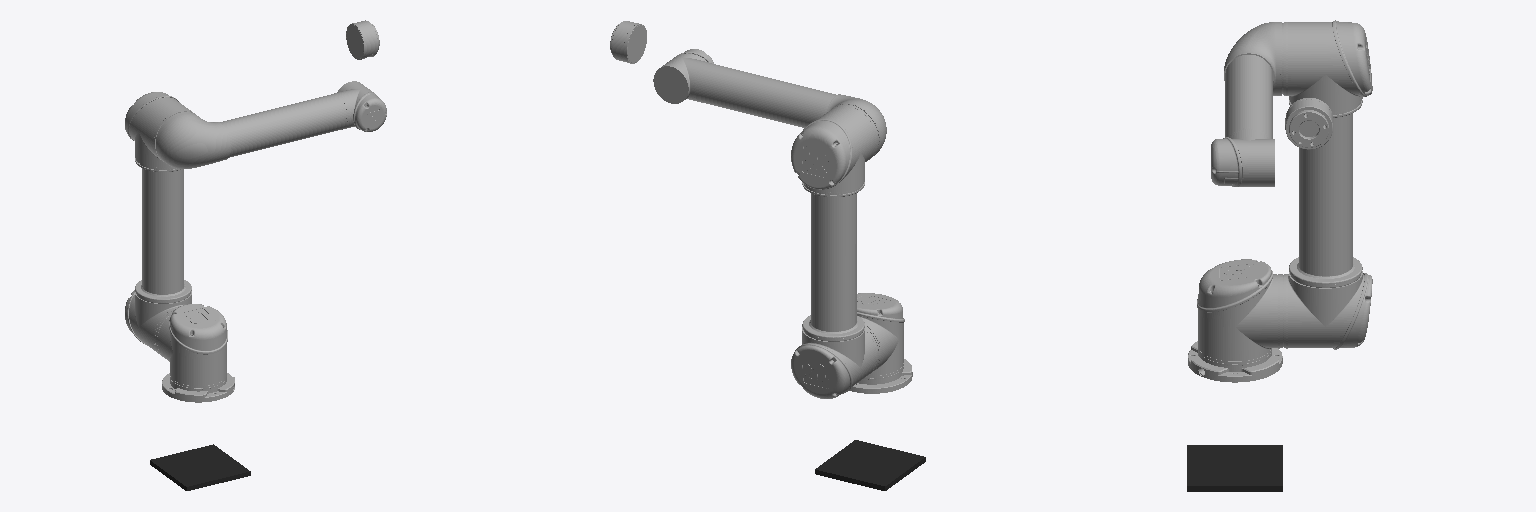
The robot description file, URDF, robot "mobile_manipulator":
<?xml version="1.0" ?>
<!-- =================================================================================== -->
<!-- |    This document was autogenerated by xacro from mobile_manipulator.urdf.xacro  | -->
<!-- |    EDITING THIS FILE BY HAND IS NOT RECOMMENDED                                 | -->
<!-- =================================================================================== -->
<robot name="mobile_manipulator">
  <material name="dark_grey">
    <color rgba="0.2 0.2 0.2 1.0"/>
  </material>
  <material name="light_grey">
    <color rgba="0.4 0.4 0.4 1.0"/>
  </material>
  <material name="yellow">
    <color rgba="0.8 0.8 0.0 1.0"/>
  </material>
  <material name="black">
    <color rgba="0.15 0.15 0.15 1.0"/>
  </material>
  <material name="silver">
    <color rgba="0.700 0.700 0.700 1.000"/>
  </material>
  <link name="front_left_wheel_link">
    <visual>
      <origin rpy="1.5707963267948966 0 0" xyz="0 0 0"/>
      <geometry>
        <mesh filename="package://swarm_description/meshes/jackal-wheel.stl"/>
      </geometry>
      <material name="black"/>
    </visual>
    <collision>
      <origin rpy="1.5707963267948966 0 0" xyz="0 0 0"/>
      <geometry>
        <cylinder length="0.04" radius="0.098"/>
      </geometry>
    </collision>
    <inertial>
      <origin rpy="0 0 0" xyz="0 0 0"/>
      <mass value="0.477"/>
      <inertia ixx="0.0013" ixy="0" ixz="0" iyy="0.0024" iyz="0" izz="0.0013"/>
    </inertial>
  </link>

  <joint name="front_left_wheel" type="continuous">
    <parent link="chassis_link"/>
    <child link="front_left_wheel_link"/>
    <origin rpy="0 0 0" xyz="0.131 0.187795 0.0345"/>
    <axis xyz="0 1 0"/>
  </joint>
  <!-- In reality, Jackal has only two motors, one per side. However, it's more
         straightforward for Gazebo to simulate as if there's an actuator per wheel. -->
  <link name="front_right_wheel_link">
    <visual>
      <origin rpy="1.5707963267948966 0 0" xyz="0 0 0"/>
      <geometry>
        <mesh filename="package://swarm_description/meshes/jackal-wheel.stl"/>
      </geometry>
      <material name="black"/>
    </visual>
    <collision>
      <origin rpy="1.5707963267948966 0 0" xyz="0 0 0"/>
      <geometry>
        <cylinder length="0.04" radius="0.098"/>
      </geometry>
    </collision>
    <inertial>
      <origin rpy="0 0 0" xyz="0 0 0"/>
      <mass value="0.477"/>
      <inertia ixx="0.0013" ixy="0" ixz="0" iyy="0.0024" iyz="0" izz="0.0013"/>
    </inertial>
  </link>

  <joint name="front_right_wheel" type="continuous">
    <parent link="chassis_link"/>
    <child link="front_right_wheel_link"/>
    <origin rpy="0 0 0" xyz="0.131 -0.187795 0.0345"/>
    <axis xyz="0 1 0"/>
  </joint>
  <!-- In reality, Jackal has only two motors, one per side. However, it's more
         straightforward for Gazebo to simulate as if there's an actuator per wheel. -->
  <link name="rear_left_wheel_link">
    <visual>
      <origin rpy="1.5707963267948966 0 0" xyz="0 0 0"/>
      <geometry>
        <mesh filename="package://swarm_description/meshes/jackal-wheel.stl"/>
      </geometry>
      <material name="black"/>
    </visual>
    <collision>
      <origin rpy="1.5707963267948966 0 0" xyz="0 0 0"/>
      <geometry>
        <cylinder length="0.04" radius="0.098"/>
      </geometry>
    </collision>
    <inertial>
      <origin rpy="0 0 0" xyz="0 0 0"/>
      <mass value="0.477"/>
      <inertia ixx="0.0013" ixy="0" ixz="0" iyy="0.0024" iyz="0" izz="0.0013"/>
    </inertial>
  </link>

  <joint name="rear_left_wheel" type="continuous">
    <parent link="chassis_link"/>
    <child link="rear_left_wheel_link"/>
    <origin rpy="0 0 0" xyz="-0.131 0.187795 0.0345"/>
    <axis xyz="0 1 0"/>
  </joint>
  <!-- In reality, Jackal has only two motors, one per side. However, it's more
         straightforward for Gazebo to simulate as if there's an actuator per wheel. -->
  <link name="rear_right_wheel_link">
    <visual>
      <origin rpy="1.5707963267948966 0 0" xyz="0 0 0"/>
      <geometry>
        <mesh filename="package://swarm_description/meshes/jackal-wheel.stl"/>
      </geometry>
      <material name="black"/>
    </visual>
    <collision>
      <origin rpy="1.5707963267948966 0 0" xyz="0 0 0"/>
      <geometry>
        <cylinder length="0.04" radius="0.098"/>
      </geometry>
    </collision>
    <inertial>
      <origin rpy="0 0 0" xyz="0 0 0"/>
      <mass value="0.477"/>
      <inertia ixx="0.0013" ixy="0" ixz="0" iyy="0.0024" iyz="0" izz="0.0013"/>
    </inertial>
  </link>

  <joint name="rear_right_wheel" type="continuous">
    <parent link="chassis_link"/>
    <child link="rear_right_wheel_link"/>
    <origin rpy="0 0 0" xyz="-0.131 -0.187795 0.0345"/>
    <axis xyz="0 1 0"/>
  </joint>
  <!-- In reality, Jackal has only two motors, one per side. However, it's more
         straightforward for Gazebo to simulate as if there's an actuator per wheel. -->

  <link name="chassis_link">
    <visual>
      <origin rpy="1.5707963267948966 0 1.5707963267948966" xyz="0 0 -0.0655"/>
      <geometry>
        <mesh filename="package://swarm_description/meshes/jackal-base.stl"/>
      </geometry>
      <material name="dark_grey"/>
    </visual>
    <collision>
      <origin xyz="0 0 0.092"/>
      <geometry>
        <box size="0.42 0.31 0.184"/>
      </geometry>
    </collision>
    <inertial>
      <!-- Center of mass -->
      <origin rpy="0 0 0" xyz="0.012  0.002 0.067"/>
      <mass value="16.523"/>
      <!-- Moments of inertia: ( chassis without wheels ) -->
      <inertia ixx="0.3136" ixy="-0.0008" ixz="0.0164" iyy="0.3922" iyz="-0.0009" izz="0.4485"/>
    </inertial>
  </link>
  <link name="front_fender_link">
    <visual>
      <geometry>
        <mesh filename="package://swarm_description/meshes/jackal-fender.stl"/>
      </geometry>
      <material name="yellow"/>
    </visual>
    <collision>
      <geometry>
        <mesh filename="package://swarm_description/meshes/jackal-fender.stl"/>
      </geometry>
    </collision>
  </link>
  <joint name="front_fender_joint" type="fixed">
    <origin rpy="0 0 0" xyz="0 0 0"/>
    <parent link="chassis_link"/>
    <child link="front_fender_link"/>
  </joint>
  <link name="rear_fender_link">
    <visual>
      <geometry>
        <mesh filename="package://swarm_description/meshes/jackal-fender.stl"/>
      </geometry>
      <material name="yellow"/>
    </visual>
    <collision>
      <geometry>
        <mesh filename="package://swarm_description/meshes/jackal-fender.stl"/>
      </geometry>
    </collision>
  </link>
  <joint name="rear_fender_joint" type="fixed">
    <origin rpy="0 0 3.141592653589793" xyz="0 0 0"/>
    <parent link="chassis_link"/>
    <child link="rear_fender_link"/>
  </joint>
  <!-- Default Internal IMU Link -->
  <link name="imu_link">
    <inertial>
      <mass value="0.001"/>
      <origin rpy="0 0 0" xyz="0 0 0"/>
      <inertia ixx="1e-09" ixy="0.0" ixz="0.0" iyy="1e-09" iyz="0.0" izz="1e-09"/>
    </inertial>
  </link>
  <joint name="imu_joint" type="fixed">
    <parent link="chassis_link"/>
    <child link="imu_link"/>
  </joint>
  <!-- Default LIDAR Link -->
  <link name="lidar_link">
    <visual>
      <geometry>
        <cylinder length="0.055" radius="0.0508"/>
      </geometry>
      <origin xyz="0 0 0.008"/>
      <material name="black"/>
    </visual>
    <collision>
      <geometry>
        <cylinder length="0.055" radius="0.0508"/>
      </geometry>
      <origin xyz="0 0 0.008"/>
    </collision>
  </link>
  <joint name="lidar_joint" type="fixed">
    <parent link="chassis_link"/>
    <child link="lidar_link"/>
    <origin xyz="0.0 0.0 0.205"/>
  </joint>
  
  <!-- Centered in Y -->
  <!-- Create a mounting plate link for the UR5 arm -->
  <link name="arm_mount_plate">
    <visual>
      <origin rpy="0 0 0" xyz="0 0 -0.005"/>
      <geometry>
        <box size="0.15 0.15 0.01"/>
      </geometry>
      <material name="dark_grey">
        <color rgba="0.2 0.2 0.2 1.0"/>
      </material>
    </visual>
    <collision>
      <origin rpy="0 0 0" xyz="0 0 -0.005"/>
      <geometry>
        <box size="0.15 0.15 0.01"/>
      </geometry>
    </collision>
    <inertial>
      <mass value="2.0"/>
      <origin rpy="0 0 0" xyz="0 0 -0.005"/>
      <inertia ixx="0.00875" ixy="0.0" ixz="0.0" iyy="0.00875" iyz="0.0" izz="0.015"/>
    </inertial>
  </link>
  <!-- Joint connecting the mounting plate to Jackal's mid_mount -->
  <joint name="arm_mount_joint" type="fixed">
    <parent link="chassis_link"/>
    <child link="arm_mount_plate"/>
    <origin rpy="0 0 0" xyz="0.0 0.0 0.01"/>
  </joint>
  <!-- UR5 Arm Links and Joints -->
  <!-- We need to define the UR5 arm structure inline or include it with proper parent -->
  <!-- UR5 Base Link mounted on the arm mounting plate -->
  <link name="arm_base_link">
    <inertial>
      <origin rpy="0 0 0" xyz="-0.0033230512143046006 -0.0004232197888539764 0.037822190938846395"/>
      <mass value="25.3"/>
      <inertia ixx="0.00671" ixy="-0.000188" ixz="0.0" iyy="0.00671" iyz="0.0" izz="0.01125"/>
    </inertial>
    <visual>
      <origin rpy="0 0 0" xyz="0 0 0"/>
      <geometry>
        <mesh filename="package://swarm_description/meshes/base_link.stl" scale="0.001 0.001 0.001"/>
      </geometry>
      <material name="silver"/>
    </visual>
    <collision>
      <origin rpy="0 0 0" xyz="0 0 0"/>
      <geometry>
        <mesh filename="package://swarm_description/meshes/base_link.stl" scale="0.001 0.001 0.001"/>
      </geometry>
    </collision>
  </link>
  <!-- Joint connecting UR5 base to the mounting plate -->
  <joint name="arm_mount_base_joint" type="fixed">
    <parent link="arm_mount_plate"/>
    <child link="arm_base_link"/>
    <origin rpy="0 0 0" xyz="0 0 0.155"/>
  </joint>
  <!-- UR5 Link 1 -->
  <link name="arm_link1_1">
    <inertial>
      <origin rpy="0 0 0" xyz="-5.118812714607554e-06 0.016411047782836283 0.05864433019110279"/>
      <mass value="1.667428920912541"/>
      <inertia ixx="0.004178" ixy="0.0" ixz="1e-06" iyy="0.003273" iyz="-0.000173" izz="0.003817"/>
    </inertial>
    <visual>
      <origin rpy="0 0 0" xyz="0.003691 5.6e-05 -0.050586"/>
      <geometry>
        <mesh filename="package://swarm_description/meshes/link1_1.stl" scale="0.001 0.001 0.001"/>
      </geometry>
      <material name="silver"/>
    </visual>
    <collision>
      <origin rpy="0 0 0" xyz="0.003691 5.6e-05 -0.050586"/>
      <geometry>
        <mesh filename="package://swarm_description/meshes/link1_1.stl" scale="0.001 0.001 0.001"/>
      </geometry>
    </collision>
  </link>
  <joint name="arm_base_link1_joint" type="continuous">
    <origin rpy="0 0 0" xyz="-0.003691 -5.6e-05 0.050586"/>
    <parent link="arm_base_link"/>
    <child link="arm_link1_1"/>
    <axis xyz="0.0 -0.0 1.0"/>
  </joint>
  <!-- UR5 Link 2 Part 1 -->
  <link name="arm_link2_p1_1">
    <inertial>
      <origin rpy="0 0 0" xyz="6.203040415705269e-06 0.06207005674361077 0.007860389181770538"/>
      <mass value="1.5524700894200791"/>
      <inertia ixx="0.003628" ixy="-1e-06" ixz="-0.0" iyy="0.003009" iyz="-0.000207" izz="0.003383"/>
    </inertial>
    <visual>
      <origin rpy="0 0 0" xyz="0.003691 -0.075244 -0.110286"/>
      <geometry>
        <mesh filename="package://swarm_description/meshes/link2_p1_1.stl" scale="0.001 0.001 0.001"/>
      </geometry>
      <material name="silver"/>
    </visual>
    <collision>
      <origin rpy="0 0 0" xyz="0.003691 -0.075244 -0.110286"/>
      <geometry>
        <mesh filename="package://swarm_description/meshes/link2_p1_1.stl" scale="0.001 0.001 0.001"/>
      </geometry>
    </collision>
  </link>
  <joint name="arm_link1_link2p1_joint" type="continuous">
    <origin rpy="0 0 0" xyz="0.0 0.0753 0.0597"/>
    <parent link="arm_link1_1"/>
    <child link="arm_link2_p1_1"/>
    <axis xyz="0.0 -1.0 -0.0"/>
  </joint>
  <!-- UR5 Link 2 Part 2 -->
  <link name="arm_link2_p2_1">
    <inertial>
      <origin rpy="0 0 0" xyz="-8.752471172565526e-05 2.4376620175181607e-07 0.1524996678439083"/>
      <mass value="1.937681145922208"/>
      <inertia ixx="0.017402" ixy="0.0" ixz="1e-06" iyy="0.017402" iyz="-0.0" izz="0.001914"/>
    </inertial>
    <visual>
      <origin rpy="0 0 0" xyz="0.003693 -0.142247 -0.176586"/>
      <geometry>
        <mesh filename="package://swarm_description/meshes/link2_p2_1.stl" scale="0.001 0.001 0.001"/>
      </geometry>
      <material name="silver"/>
    </visual>
    <collision>
      <origin rpy="0 0 0" xyz="0.003693 -0.142247 -0.176586"/>
      <geometry>
        <mesh filename="package://swarm_description/meshes/link2_p2_1.stl" scale="0.001 0.001 0.001"/>
      </geometry>
    </collision>
  </link>
  <joint name="arm_p1_p2_joint" type="fixed">
    <origin rpy="0 0 0" xyz="-2e-06 0.067003 0.0663"/>
    <parent link="arm_link2_p1_1"/>
    <child link="arm_link2_p2_1"/>
  </joint>
  <!-- UR5 Link 2 Part 3 -->
  <link name="arm_link2_p3_1">
    <inertial>
      <origin rpy="0 0 0" xyz="-7.763250047288905e-06 -0.004932943256389266 0.05843895228729162"/>
      <mass value="1.5524700894200791"/>
      <inertia ixx="0.003628" ixy="1e-06" ixz="-0.0" iyy="0.003009" iyz="0.000207" izz="0.003383"/>
    </inertial>
    <visual>
      <origin rpy="0 0 0" xyz="0.003704 -0.142247 -0.481586"/>
      <geometry>
        <mesh filename="package://swarm_description/meshes/link2_p3_1.stl" scale="0.001 0.001 0.001"/>
      </geometry>
      <material name="silver"/>
    </visual>
    <collision>
      <origin rpy="0 0 0" xyz="0.003704 -0.142247 -0.481586"/>
      <geometry>
        <mesh filename="package://swarm_description/meshes/link2_p3_1.stl" scale="0.001 0.001 0.001"/>
      </geometry>
    </collision>
  </link>
  <joint name="arm_p2_p3_joint" type="fixed">
    <origin rpy="0 0 0" xyz="-1.1e-05 0.0 0.305"/>
    <parent link="arm_link2_p2_1"/>
    <child link="arm_link2_p3_1"/>
  </joint>
  <!-- UR5 Link 3 -->
  <!-- Joint connecting Link 2 Part 3 to Link 3 -->
  <joint name="arm_link2p3_link3_joint" type="continuous">
    <origin rpy="0 0 0" xyz="-2e-06 -0.067003 0.0663"/>
    <parent link="arm_link2_p3_1"/>
    <child link="arm_link3_1"/>
    <axis xyz="0.0 -1.0 -0.0"/>
  </joint>
  <link name="arm_link3_1">
    <inertial>
      <origin rpy="0 0 0" xyz="0.17378102072172863 -0.04787490591742441 0.00100186606907815"/>
      <mass value="2.846539405621545"/>
      <inertia ixx="0.003063" ixy="0.003731" ixz="-0.000342" iyy="0.061797" iyz="2.2e-05" izz="0.062318"/>
    </inertial>
    <visual>
      <origin rpy="0 0 0" xyz="0.003706 -0.075244 -0.547886"/>
      <geometry>
        <mesh filename="package://swarm_description/meshes/link3_1.stl" scale="0.001 0.001 0.001"/>
      </geometry>
      <material name="silver"/>
    </visual>
    <collision>
      <origin rpy="0 0 0" xyz="0.003706 -0.075244 -0.547886"/>
      <geometry>
        <mesh filename="package://swarm_description/meshes/link3_1.stl" scale="0.001 0.001 0.001"/>
      </geometry>
    </collision>
  </link>
  <joint name="arm_link3_link4_joint" type="continuous">
    <origin rpy="0 0 0" xyz="0.392244 -0.012 0.002256"/>
    <parent link="arm_link3_1"/>
    <child link="arm_link4_1"/>
    <axis xyz="0.0 1.0 -0.0"/>
  </joint>
  <!-- UR5 Link 4 -->
  <link name="arm_link4_1">
    <inertial>
      <origin rpy="0 0 0" xyz="2.12490884528016e-05 0.04182917130330904 -0.003987177325129543"/>
      <mass value="0.5732810659722621"/>
      <inertia ixx="0.000753" ixy="0.0" ixz="0.0" iyy="0.000581" iyz="1.1e-05" izz="0.000587"/>
    </inertial>
    <visual>
      <origin rpy="0 0 0" xyz="-0.388538 -0.063244 -0.550142"/>
      <geometry>
        <mesh filename="package://swarm_description/meshes/link4_1.stl" scale="0.001 0.001 0.001"/>
      </geometry>
      <material name="silver"/>
    </visual>
    <collision>
      <origin rpy="0 0 0" xyz="-0.388538 -0.063244 -0.550142"/>
      <geometry>
        <mesh filename="package://swarm_description/meshes/link4_1.stl" scale="0.001 0.001 0.001"/>
      </geometry>
    </collision>
  </link>
  <joint name="arm_link4_link5_joint" type="continuous">
    <origin rpy="0 0 0" xyz="-9.7e-05 0.05362 0.04155"/>
    <parent link="arm_link4_1"/>
    <child link="arm_link5_1"/>
    <axis xyz="-0.00232 0.0 0.999997"/>
  </joint>
  <!-- UR5 Link 5 -->
  <link name="arm_link5_1">
    <inertial>
      <origin rpy="0 0 0" xyz="-0.003851364362202292 4.3924354040825175e-05 0.04240877360333983"/>
      <mass value="0.5732811937839646"/>
      <inertia ixx="0.000597" ixy="1e-06" ixz="2e-05" iyy="0.000754" iyz="0.0" izz="0.000572"/>
    </inertial>
    <visual>
      <origin rpy="0 0 0" xyz="-0.388441 -0.116864 -0.591692"/>
      <geometry>
        <mesh filename="package://swarm_description/meshes/link5_1.stl" scale="0.001 0.001 0.001"/>
      </geometry>
      <material name="silver"/>
    </visual>
    <collision>
      <origin rpy="0 0 0" xyz="-0.388441 -0.116864 -0.591692"/>
      <geometry>
        <mesh filename="package://swarm_description/meshes/link5_1.stl" scale="0.001 0.001 0.001"/>
      </geometry>
    </collision>
  </link>
  <joint name="arm_link5_link6_joint" type="continuous">
    <origin rpy="0 0 0" xyz="0.041424 -0.000352 0.053716"/>
    <parent link="arm_link5_1"/>
    <child link="arm_link6_1"/>
    <axis xyz="0.999962 -0.008461 0.00232"/>
  </joint>
  <!-- UR5 Link 6 -->
  <link name="arm_link6_1">
    <inertial>
      <origin rpy="0 0 0" xyz="0.01818377138506838 -7.537991570427671e-05 0.0001621667781095404"/>
      <mass value="0.1747134109193075"/>
      <inertia ixx="0.000123" ixy="-0.0" ixz="-0.0" iyy="8.2e-05" iyz="0.0" izz="8.3e-05"/>
    </inertial>
    <visual>
      <origin rpy="0 0 0" xyz="-0.429865 -0.116512 -0.645408"/>
      <geometry>
        <mesh filename="package://swarm_description/meshes/link6_1.stl" scale="0.001 0.001 0.001"/>
      </geometry>
      <material name="silver"/>
    </visual>
    <collision>
      <origin rpy="0 0 0" xyz="-0.429865 -0.116512 -0.645408"/>
      <geometry>
        <mesh filename="package://swarm_description/meshes/link6_1.stl" scale="0.001 0.001 0.001"/>
      </geometry>
    </collision>
  </link>
</robot>

--- Facts derived from the render (not from the file) ---
3 views of the same robot in one strip: view 1: azimuth 30°, elevation 25°; view 2: azimuth 150°, elevation 25°; view 3: azimuth 270°, elevation 25° (orthographic).
Robot: mobile_manipulator — 19 links, 18 joints (10 continuous, 8 fixed); root link chassis_link; default pose: every joint at zero.
Links seen in each view (by area): view 1: arm_link3_1, arm_link2_p2_1, arm_link1_1, arm_mount_plate, arm_link2_p3_1, arm_link2_p1_1, arm_base_link, arm_link6_1; view 2: arm_link3_1, arm_link2_p2_1, arm_link2_p3_1, arm_link2_p1_1, arm_mount_plate, arm_link1_1, arm_link6_1, arm_base_link; view 3: arm_link3_1, arm_link2_p2_1, arm_link1_1, arm_link2_p3_1, arm_link2_p1_1, arm_mount_plate, arm_base_link, arm_link6_1.
Link boxes in pixels (left/top/right/bottom): arm_link3_1: left=156, top=81, right=386, bottom=168; arm_link2_p2_1: left=135, top=158, right=191, bottom=303; arm_link1_1: left=155, top=304, right=227, bottom=385; arm_mount_plate: left=150, top=444, right=250, bottom=490; arm_link2_p3_1: left=125, top=92, right=194, bottom=167; arm_link2_p1_1: left=125, top=290, right=191, bottom=356; arm_base_link: left=162, top=373, right=234, bottom=402; arm_link6_1: left=346, top=20, right=379, bottom=59; arm_link3_1: left=653, top=49, right=886, bottom=155; arm_link2_p2_1: left=802, top=182, right=864, bottom=341; arm_link2_p3_1: left=791, top=104, right=878, bottom=192; arm_link2_p1_1: left=791, top=327, right=878, bottom=398; arm_mount_plate: left=815, top=440, right=925, bottom=490; arm_link1_1: left=857, top=293, right=904, bottom=375; arm_link6_1: left=610, top=21, right=646, bottom=63; arm_base_link: left=849, top=359, right=912, bottom=393; arm_link3_1: left=1211, top=22, right=1282, bottom=186; arm_link2_p2_1: left=1289, top=100, right=1362, bottom=287; arm_link1_1: left=1197, top=259, right=1282, bottom=360; arm_link2_p3_1: left=1283, top=20, right=1372, bottom=111; arm_link2_p1_1: left=1283, top=271, right=1372, bottom=349; arm_mount_plate: left=1187, top=445, right=1282, bottom=491; arm_base_link: left=1188, top=341, right=1282, bottom=382; arm_link6_1: left=1285, top=98, right=1332, bottom=149.
Size in the robot's own frame: 0.5484 by 0.2907 by 0.8482 metres.
Meshes: 12 distinct files referenced, 7 mesh visuals loaded (7 binary STL); not drawn: 9 (reference not matched to a file when rendering).
